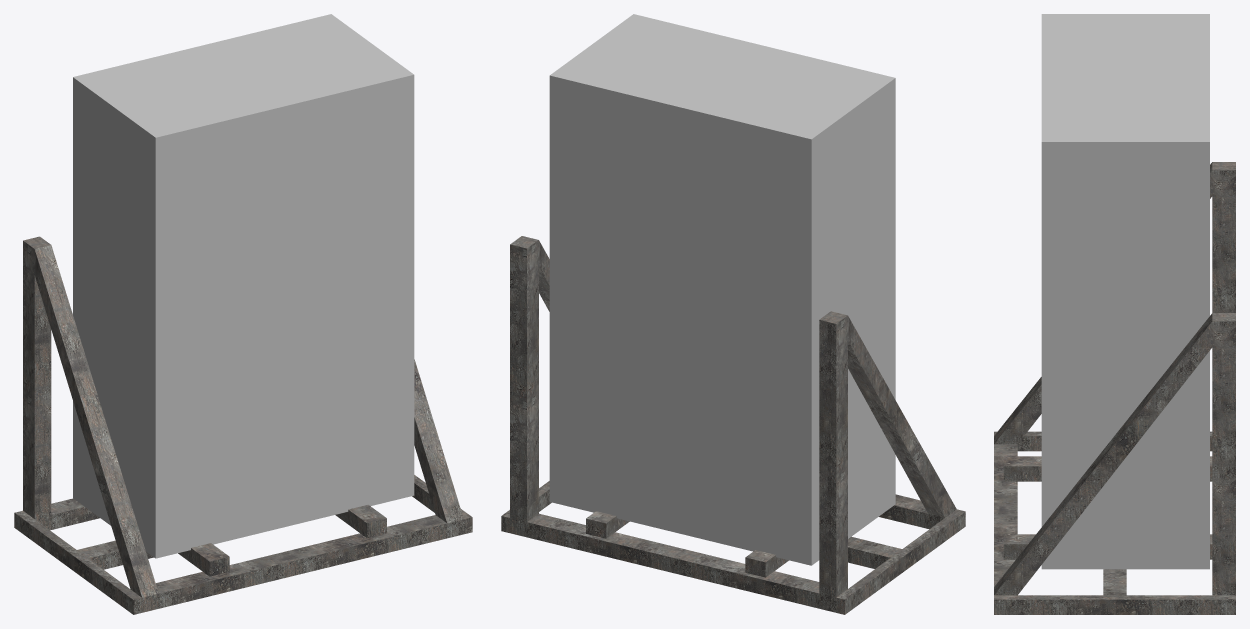
Rendered from CT_aircon_unit_typeC_01.FBX.
The picture shows the model from 3 angles, left to right: view 1: azimuth 30°, elevation 25°; view 2: azimuth 150°, elevation 25°; view 3: azimuth 270°, elevation 25°; orthographic projection.
Visible parts, largest first — view 1: CT_aircon_unit_typeC_01; view 2: CT_aircon_unit_typeC_01; view 3: CT_aircon_unit_typeC_01.
Part boxes in pixels (x1,y1,x2,y2): CT_aircon_unit_typeC_01: (14,14,472,614); CT_aircon_unit_typeC_01: (501,14,965,614); CT_aircon_unit_typeC_01: (994,14,1235,614).
Bounding box in the file's own units: 118 × 149 × 71.83.
